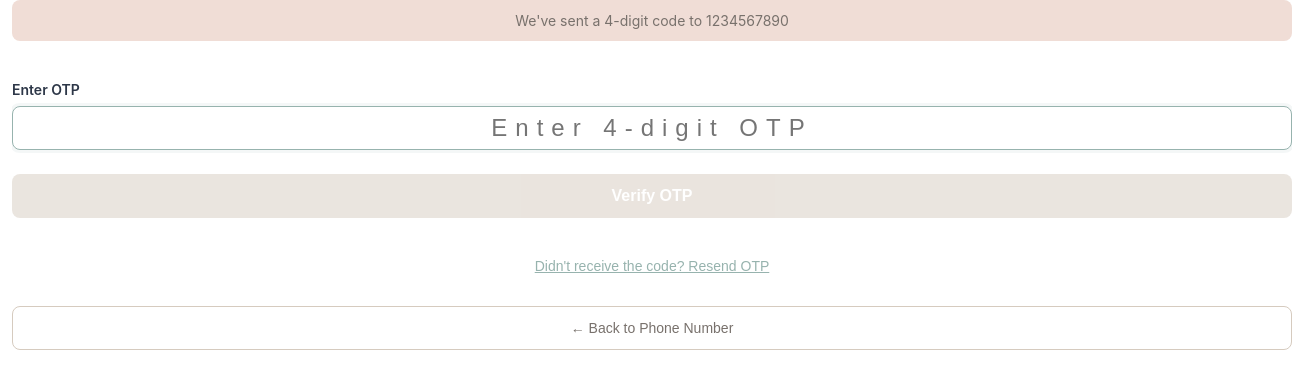
OTPForm Component › should show error message for invalid OTP format on submit
This screenshot has width=1304, height=386.
Type "12" into the field labelled "Enter OTP" at (652, 128), box [12,106,1292,150]
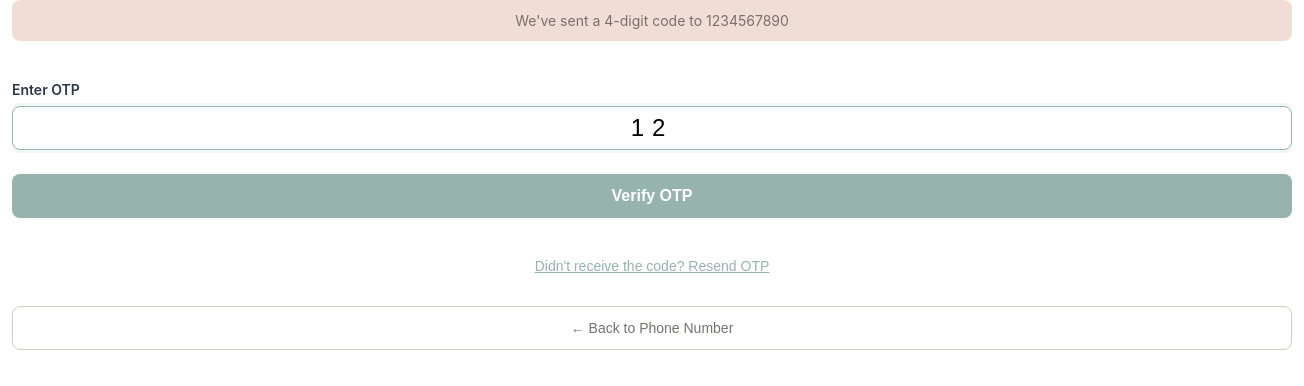
Click the button "Verify OTP" at (652, 196), box [12,174,1292,218]
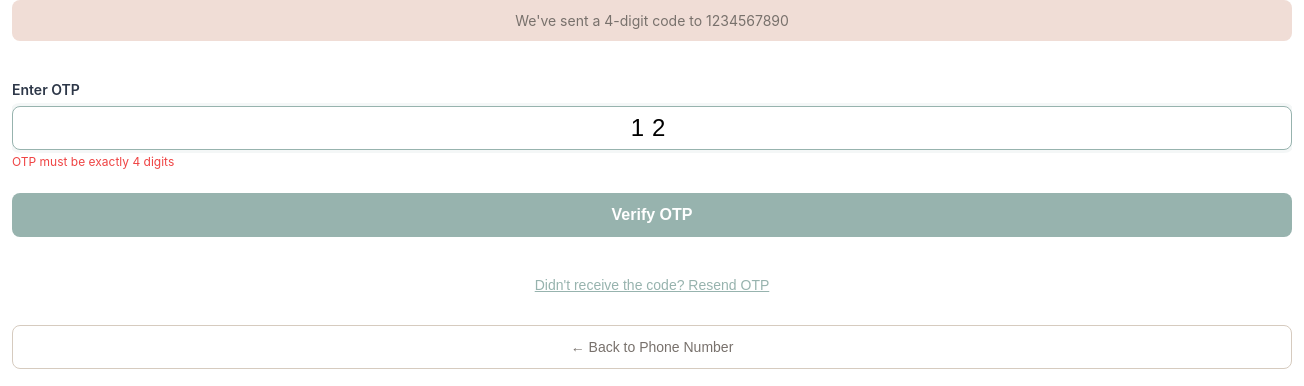
Check: the text "OTP must be exactly 4 digits" is shown, box [12,154,174,169]
